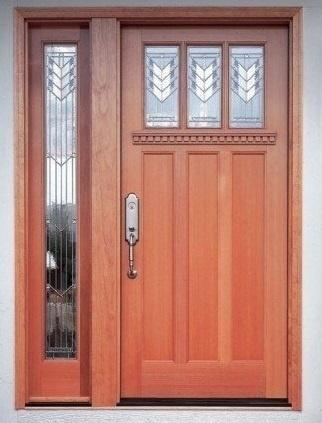door: (119, 8, 296, 399)
